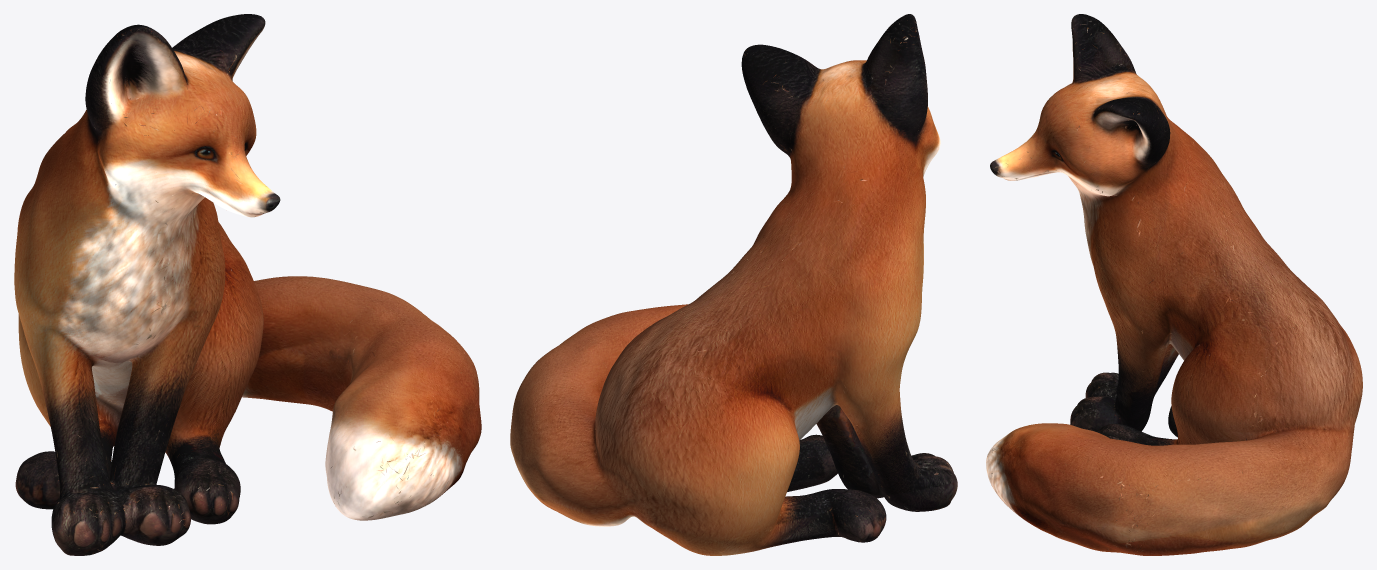
File: red-fox.glb
The picture shows the model from 3 angles, left to right: view 1: azimuth 30°, elevation 25°; view 2: azimuth 150°, elevation 25°; view 3: azimuth 270°, elevation 25°; orthographic projection. The views are drawn at different scales.
Parts seen in each view (by area): view 1: Mesh_0; view 2: Mesh_0; view 3: Mesh_0.
Part boxes in pixels (left/top/right/bottom): Mesh_0: left=14, top=14, right=481, bottom=555; Mesh_0: left=510, top=14, right=957, bottom=555; Mesh_0: left=986, top=14, right=1362, bottom=555.
Bounding box in the file's own units: 1.63 × 1.9 × 1.55.
1 material, 1 textured.
